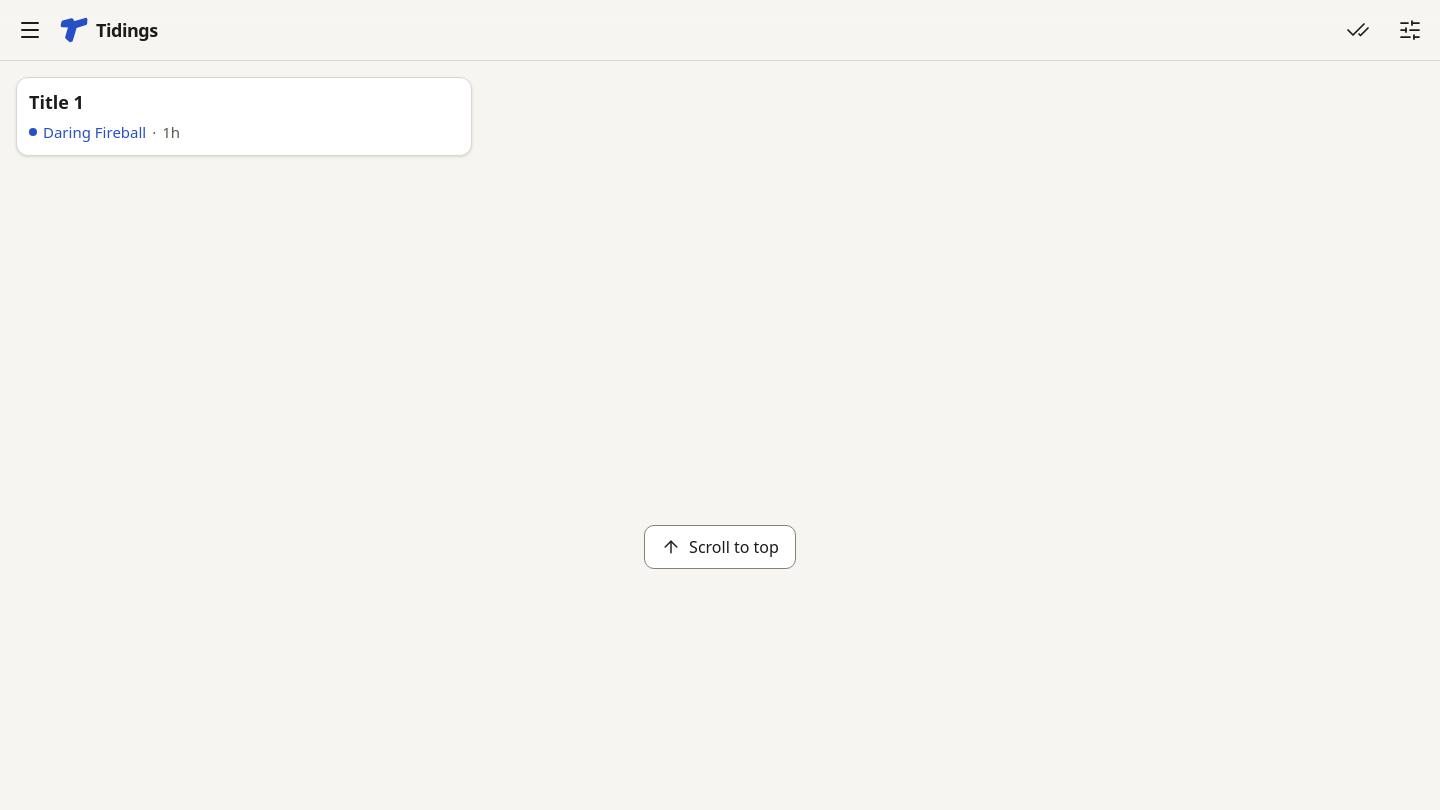
it: AC3: more than 20 entries › formats a large count with a thousands separator
Expected: the heading "Title 1" is shown, left=29, top=90, right=84, bottom=114
Click the button named "Mark all as read".
click(1358, 30)  # box left=1336, top=8, right=1380, bottom=52
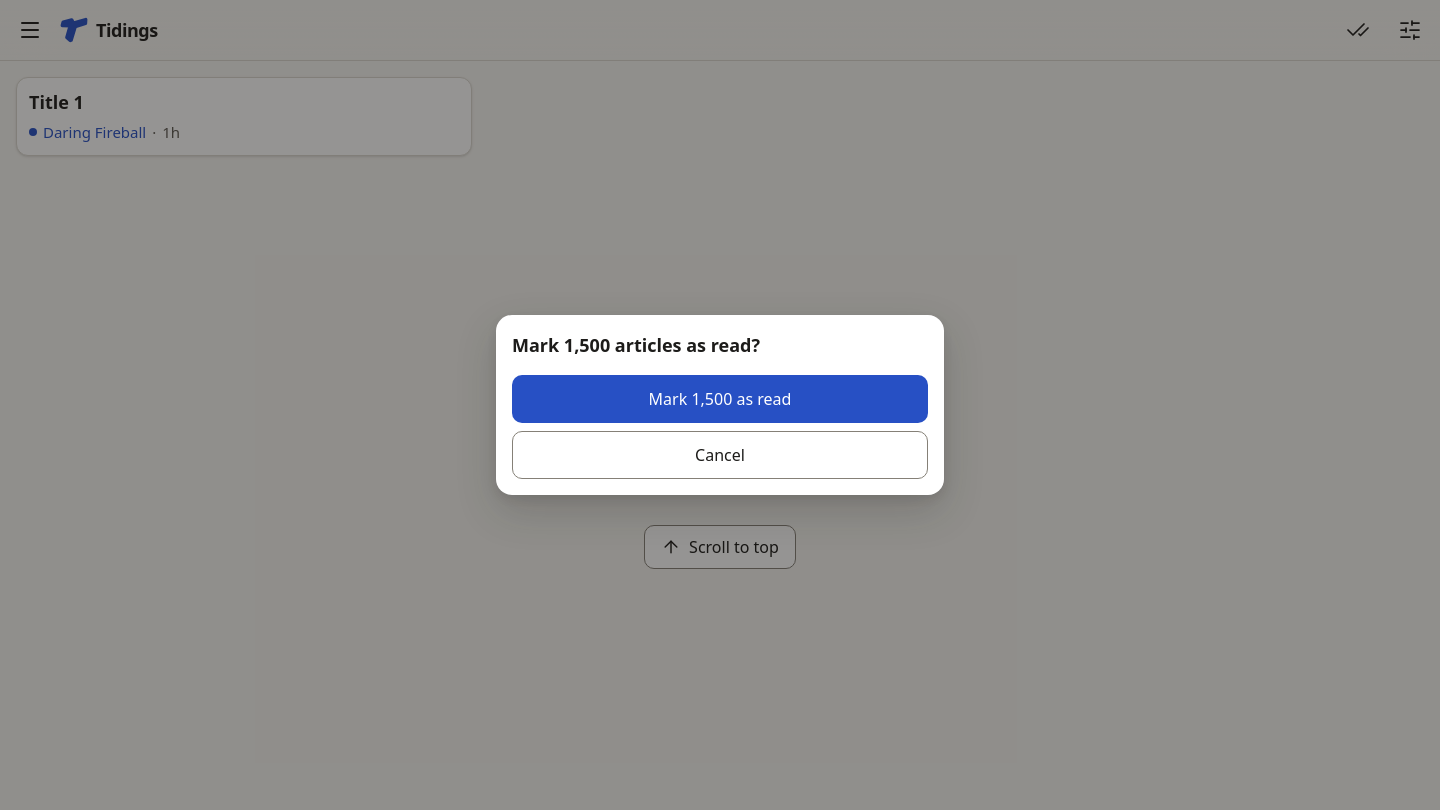
Expected: the dialog "Mark 1,500 articles as read?" is shown, left=496, top=315, right=944, bottom=495
Expected: the button "Mark 1,500 as read" is shown, left=512, top=375, right=928, bottom=423
